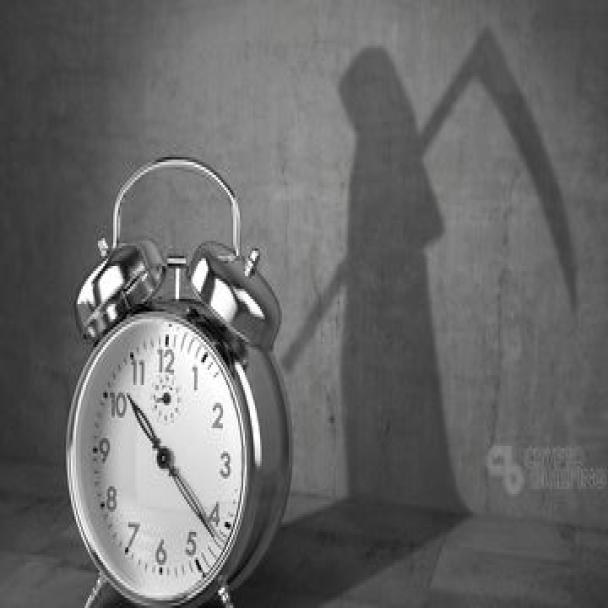Jam: (69, 301, 284, 608)
